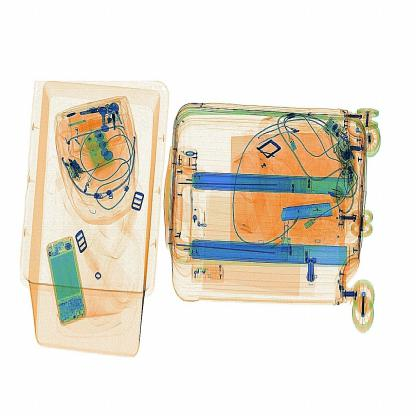pliers: (271, 196, 339, 230)
